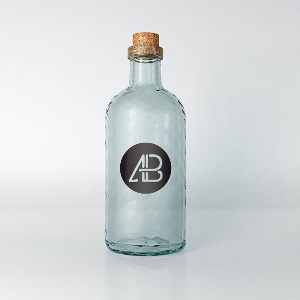emptybottle: (104, 32, 187, 256)
